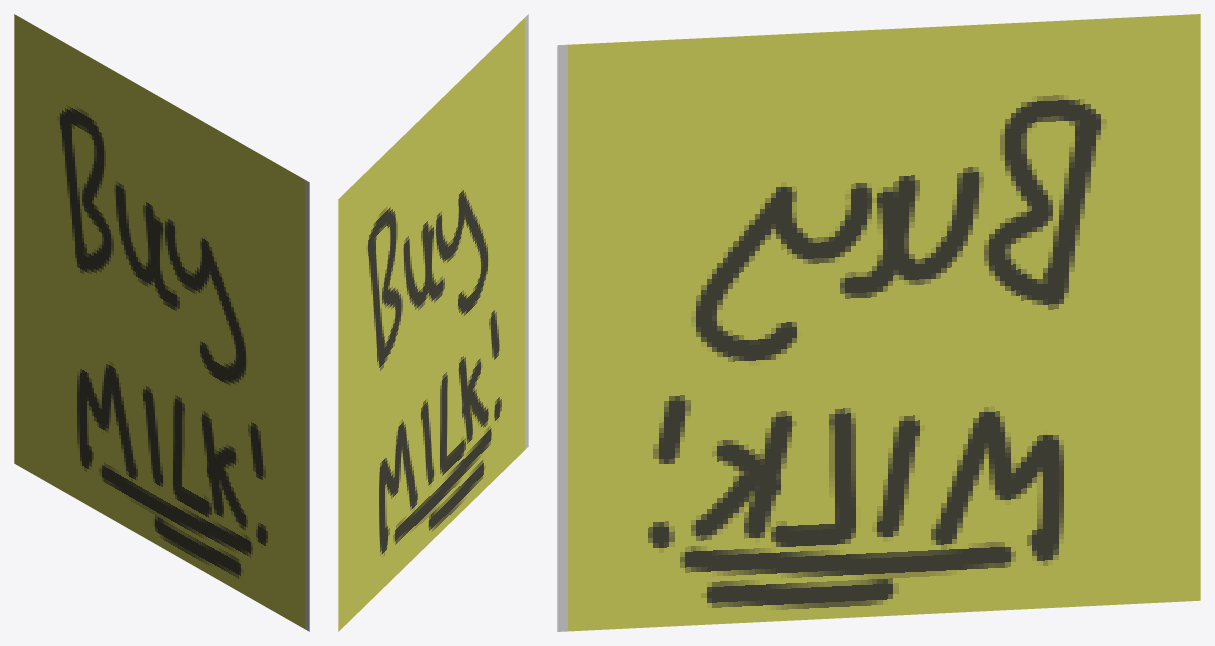
File: Post_it_02.glb
3 views of the same model, side by side, from view 1: azimuth 30°, elevation 25°; view 2: azimuth 150°, elevation 25°; view 3: azimuth 270°, elevation 25° (orthographic). The views are drawn at different scales.
Parts seen in each view (by area): view 1: PostIt.002; view 2: PostIt.002; view 3: PostIt.002.
Part boxes in pixels (x1=…): PostIt.002: x1=14, y1=14, x2=309, y2=631; PostIt.002: x1=338, y1=14, x2=528, y2=631; PostIt.002: x1=557, y1=14, x2=1200, y2=631.
Bounding box in the file's own units: 0.0456 × 0.4 × 0.3974.
1 material, 1 textured.
